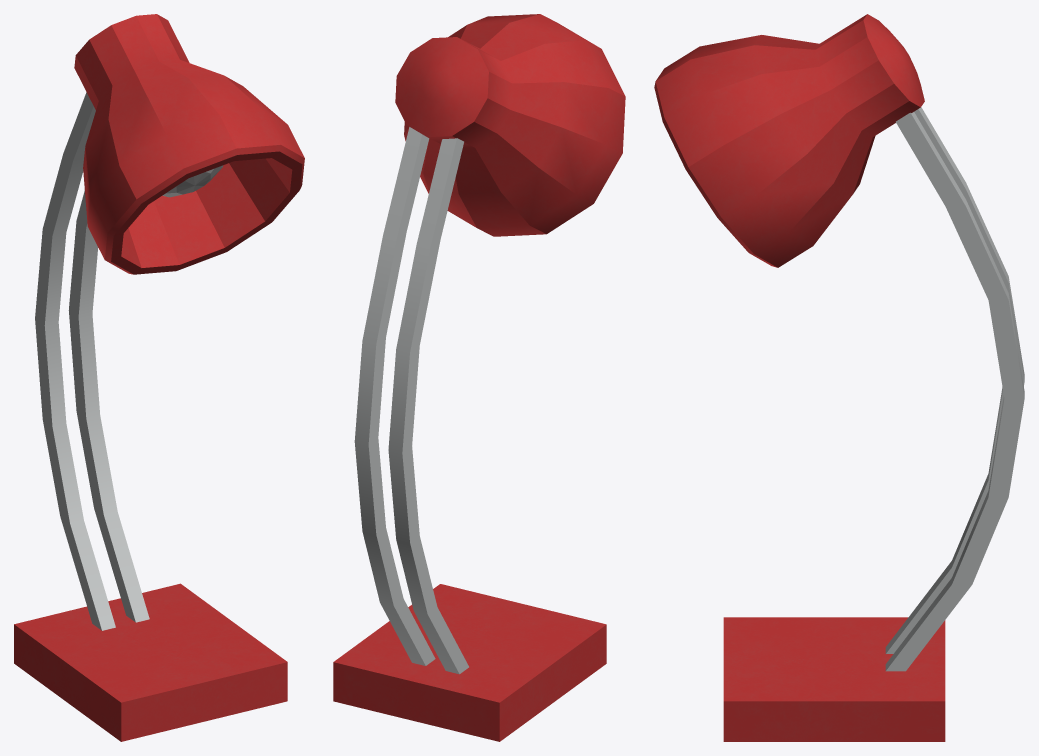
Rendered from lamp.fbx.
3 renders of one model, left to right at view 1: azimuth 30°, elevation 25°; view 2: azimuth 150°, elevation 25°; view 3: azimuth 270°, elevation 25°, orthographic. The views are drawn at different scales.
Visible parts, largest first — view 1: lamp1; view 2: lamp1; view 3: lamp1.
Boxes of the visible parts, x1=… form: lamp1: x1=14, y1=14, x2=304, y2=741; lamp1: x1=333, y1=14, x2=625, y2=741; lamp1: x1=654, y1=14, x2=1024, y2=741.
Size of the model in its own units: 0.1931 by 0.623 by 0.3077.
